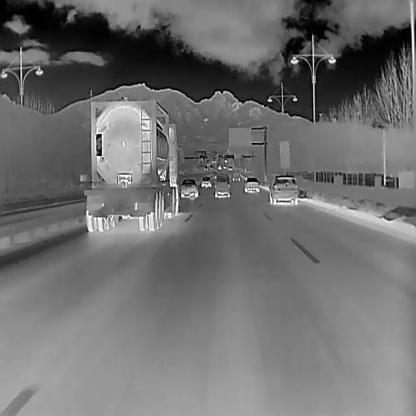car: (83, 96, 183, 231), (269, 174, 298, 205), (214, 173, 230, 198), (180, 178, 198, 199), (243, 176, 259, 193), (199, 176, 212, 187), (232, 172, 240, 181), (228, 164, 233, 171), (209, 164, 214, 170), (204, 164, 208, 170), (217, 164, 221, 170), (224, 159, 228, 163), (223, 164, 226, 169)
